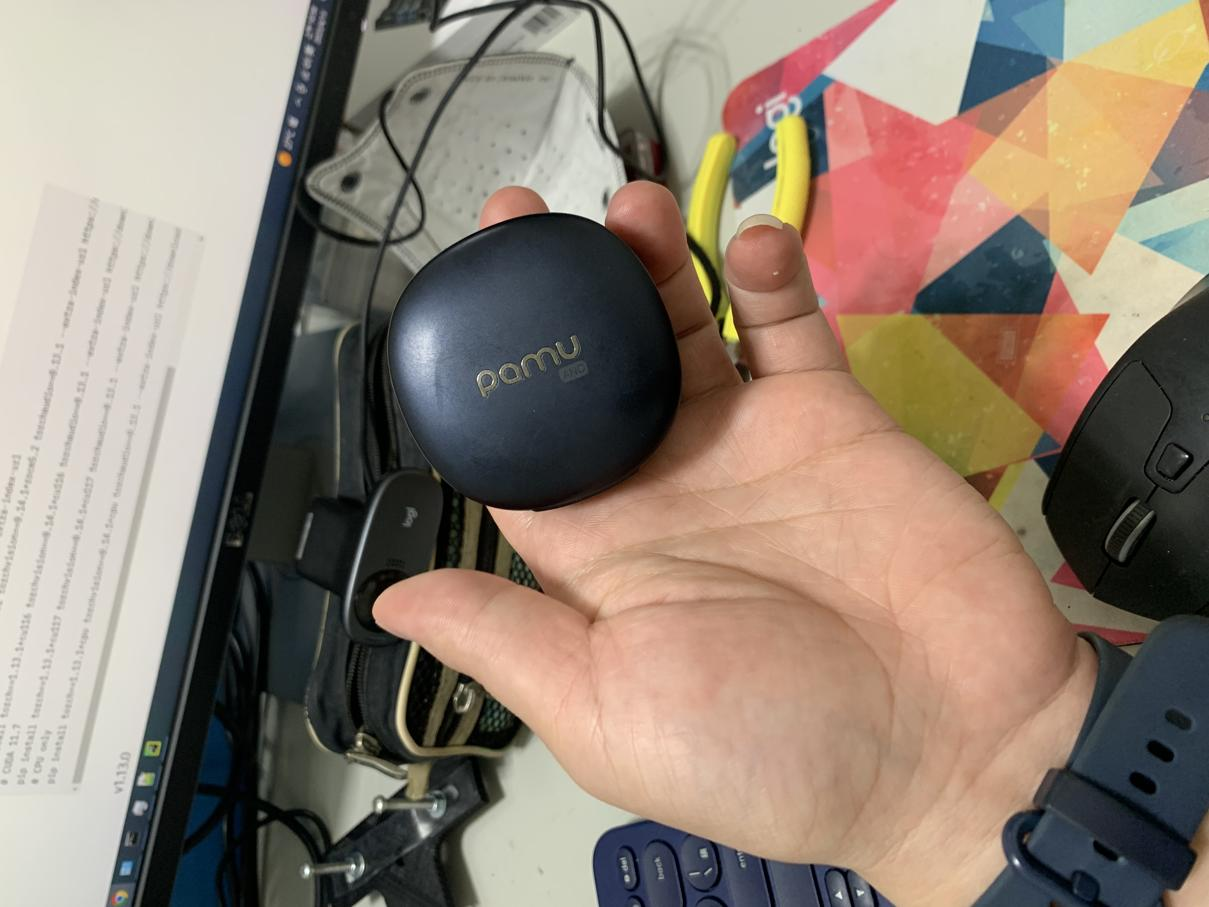pami: (371, 212, 685, 512)
